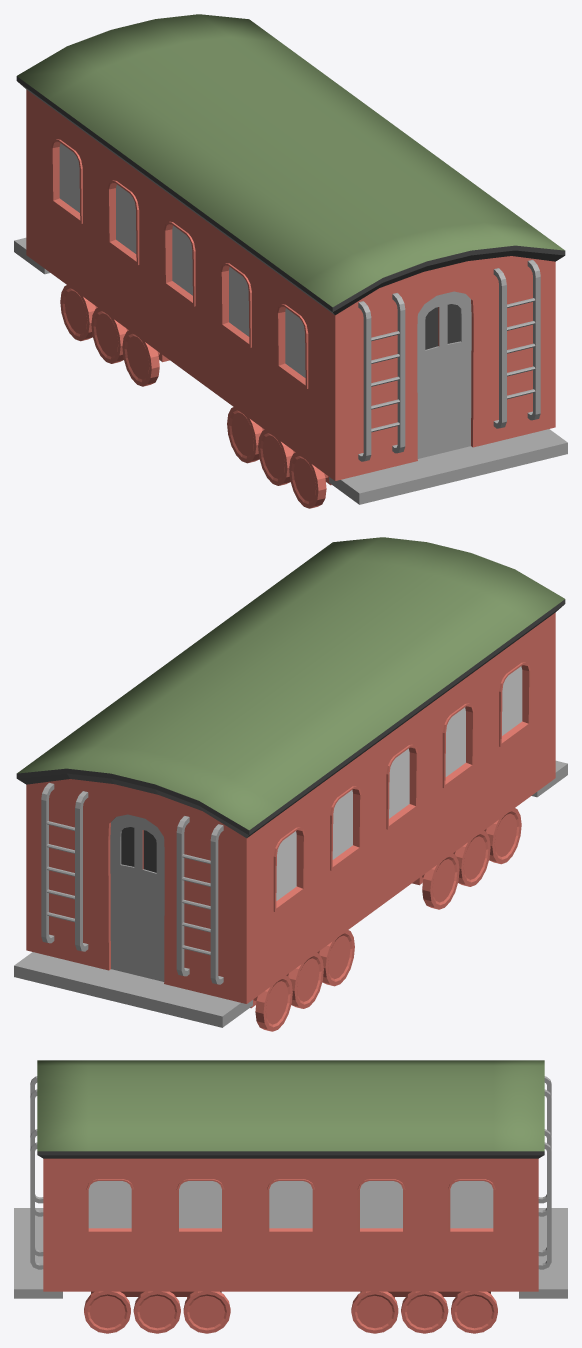
Rendered from TrainCarriageSmall.fbx.
3 views of the same model, one above another, from view 1: azimuth 30°, elevation 25°; view 2: azimuth 150°, elevation 25°; view 3: azimuth 270°, elevation 25° (orthographic). The views are drawn at different scales.
Parts seen in each view (by area): view 1: Cube, Cube.002; view 2: Cube, Cube.002; view 3: Cube, Cube.002.
Part boxes in pixels (bbox=[...]): Cube: bbox=[14, 14, 567, 508]; Cube.002: bbox=[59, 143, 305, 377]; Cube: bbox=[14, 537, 567, 1031]; Cube.002: bbox=[276, 666, 522, 900]; Cube: bbox=[14, 1060, 567, 1333]; Cube.002: bbox=[88, 1181, 493, 1228].
Size of the model in its own units: 4.22 by 4.47 by 10.86.
